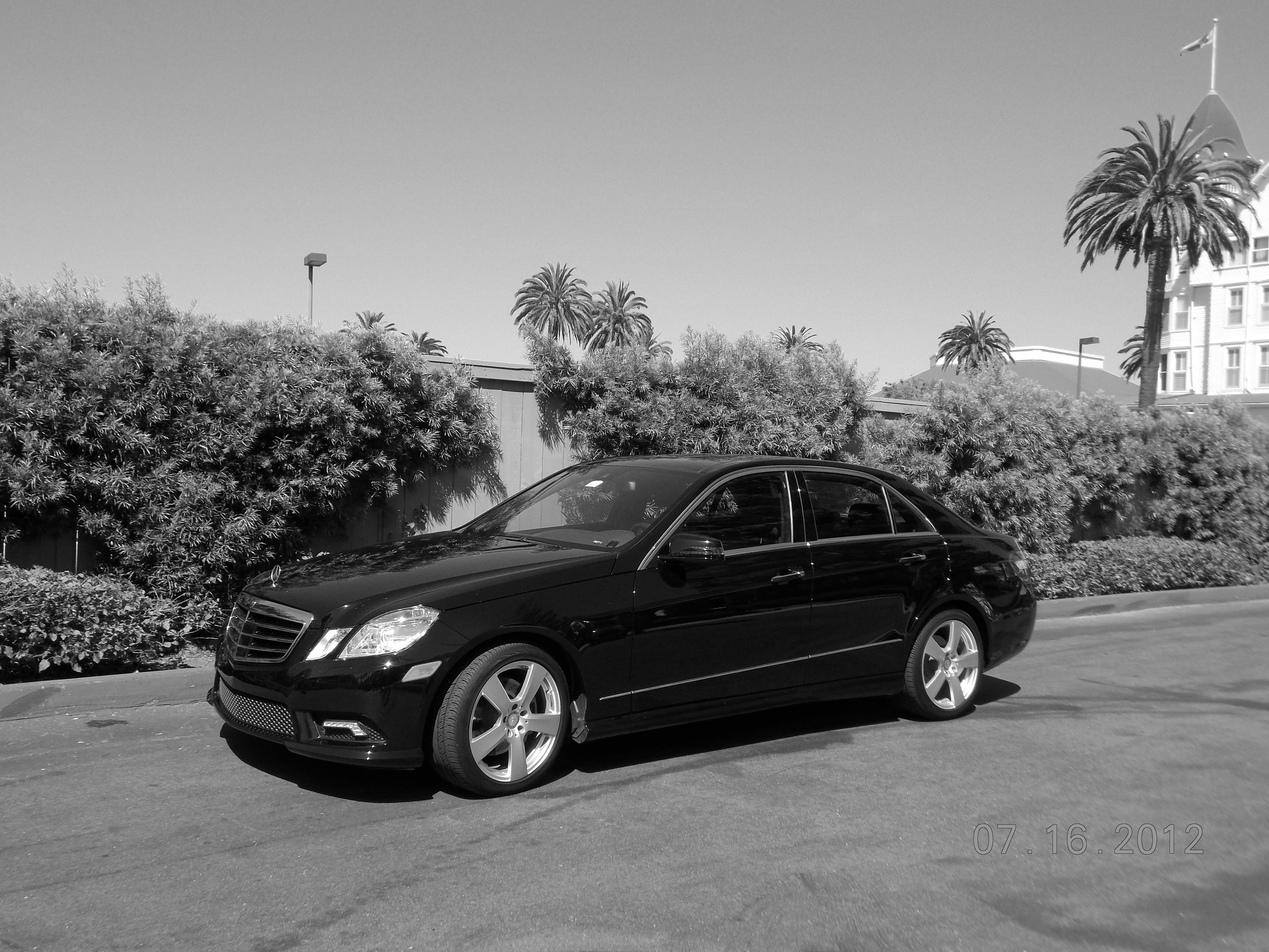car: (205, 455, 1050, 807)
